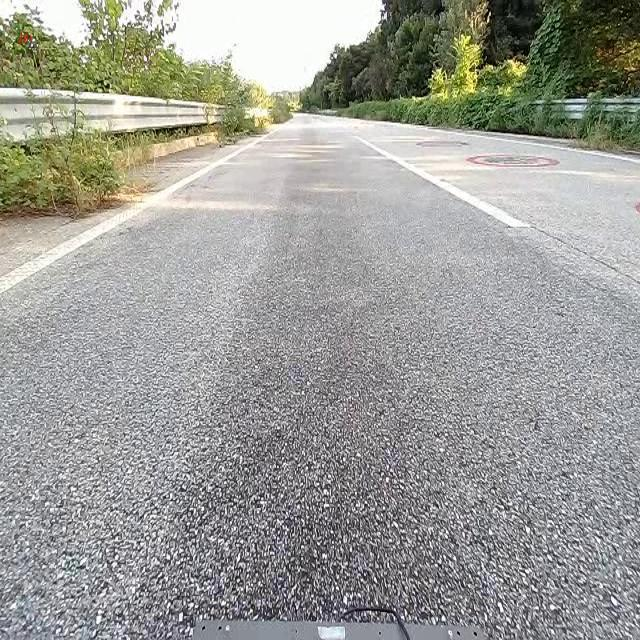Lane: (0, 107, 267, 302), (0, 140, 259, 296), (340, 125, 538, 242), (360, 139, 532, 227)
